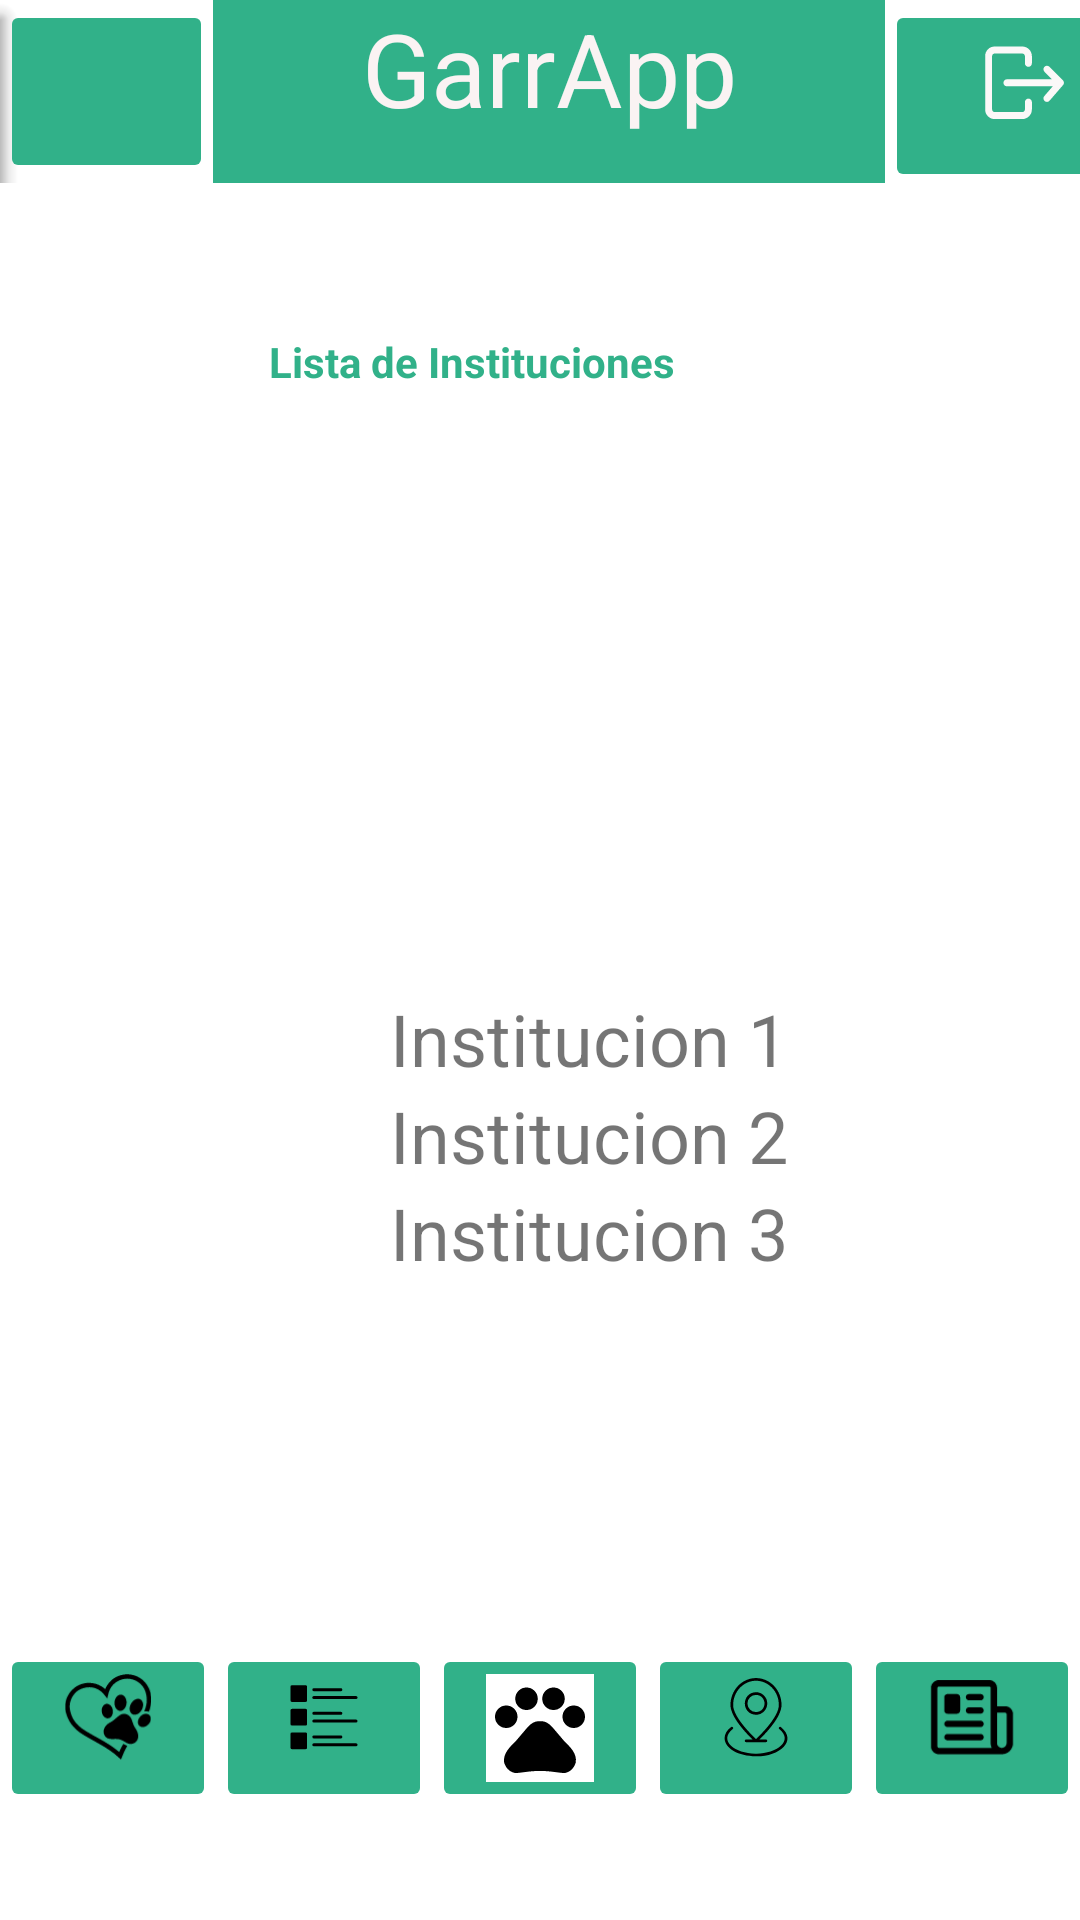

Locate icon controls on the screen. Image size 1080x1920, boxes as (x1, y1, x2, y2).
barrainferiorgarra: (444, 1662, 636, 1794)
barrainferiormapas: (660, 1662, 852, 1794)
